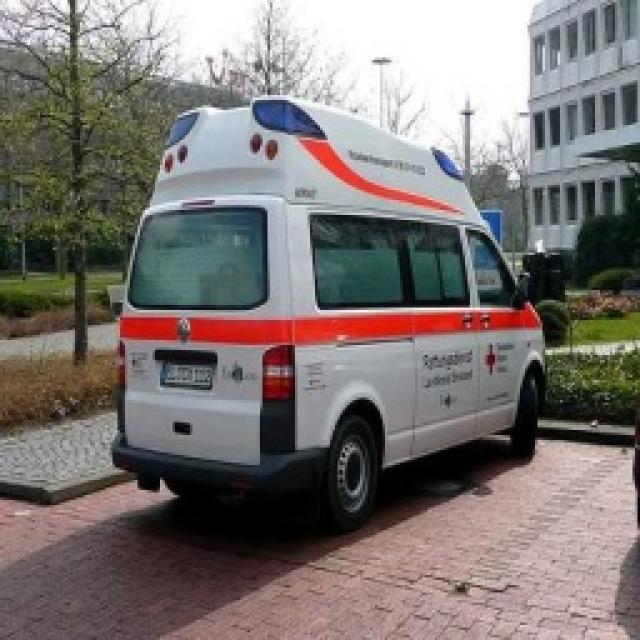emergency-vehicle: (51, 77, 640, 616)
